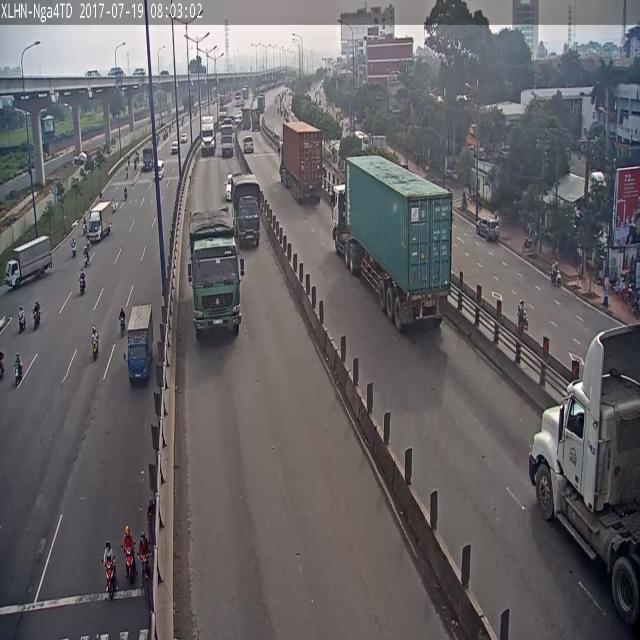car: (103, 541, 117, 599), (124, 526, 136, 583), (138, 532, 149, 572), (518, 300, 528, 333), (550, 261, 561, 286), (91, 325, 99, 359), (32, 300, 41, 330), (14, 353, 22, 386), (118, 308, 126, 337), (18, 305, 26, 333), (78, 268, 86, 294), (84, 244, 90, 267), (70, 237, 76, 257), (111, 196, 117, 212), (83, 216, 87, 236), (124, 186, 128, 200), (133, 159, 137, 170), (99, 190, 102, 199), (126, 166, 128, 179)
traffic-light: (476, 217, 500, 242), (221, 132, 234, 160), (244, 135, 254, 153), (171, 141, 178, 155)
truck: (527, 315, 640, 639), (329, 150, 456, 342), (188, 210, 244, 339), (278, 116, 326, 208), (230, 174, 264, 253), (6, 236, 52, 288), (126, 304, 153, 384), (88, 201, 112, 242), (199, 115, 216, 159)
